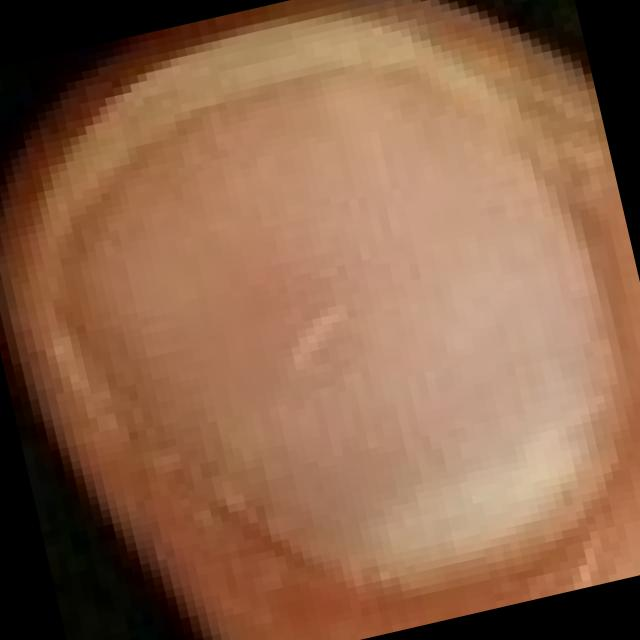Nail: (35, 20, 626, 587)
